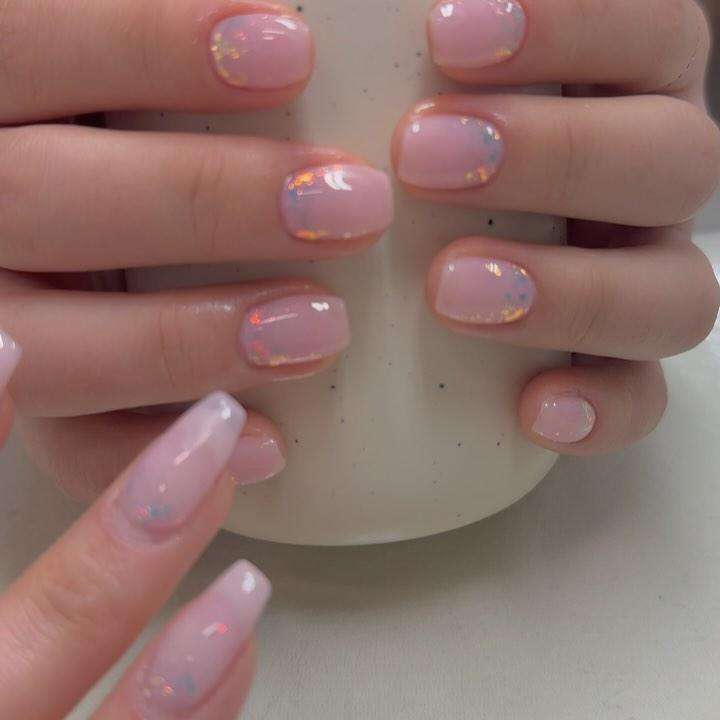nail: (130, 557, 273, 718), (112, 388, 247, 536), (278, 160, 394, 243), (391, 107, 505, 191), (204, 4, 314, 91), (237, 291, 351, 369), (431, 253, 536, 326), (425, 0, 528, 70), (227, 407, 286, 486), (531, 392, 596, 444)
